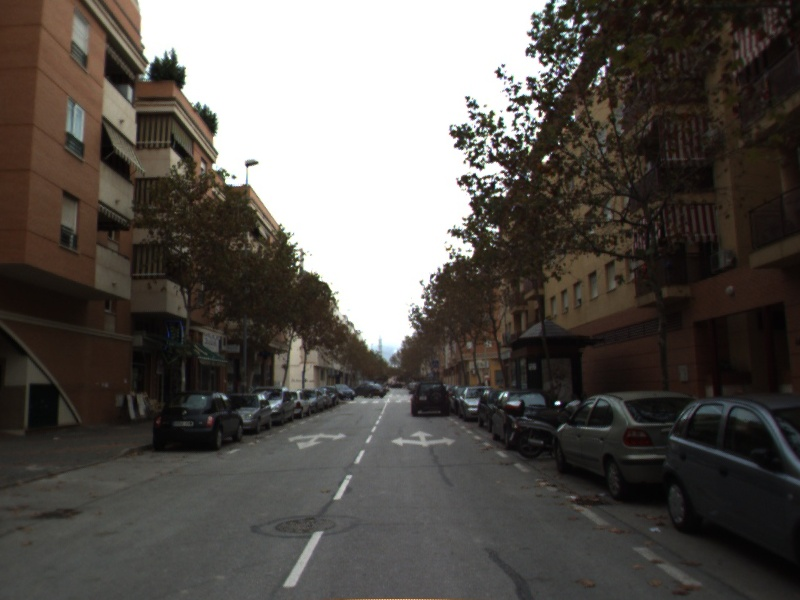STRAIGHT_LEFT_RIGHT: (390, 428, 458, 449)
